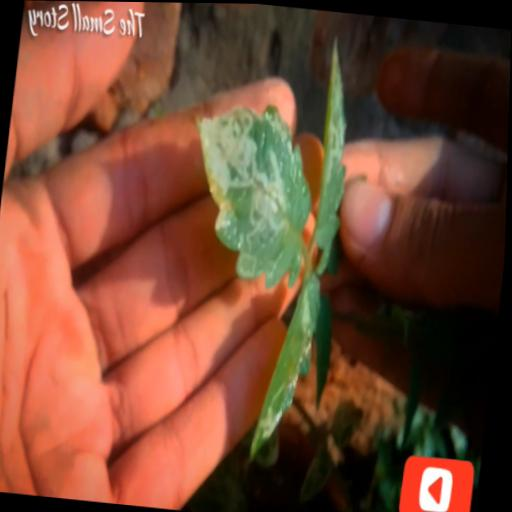Leaf_Miner: (176, 92, 323, 293), (247, 261, 324, 464), (308, 33, 364, 254)
